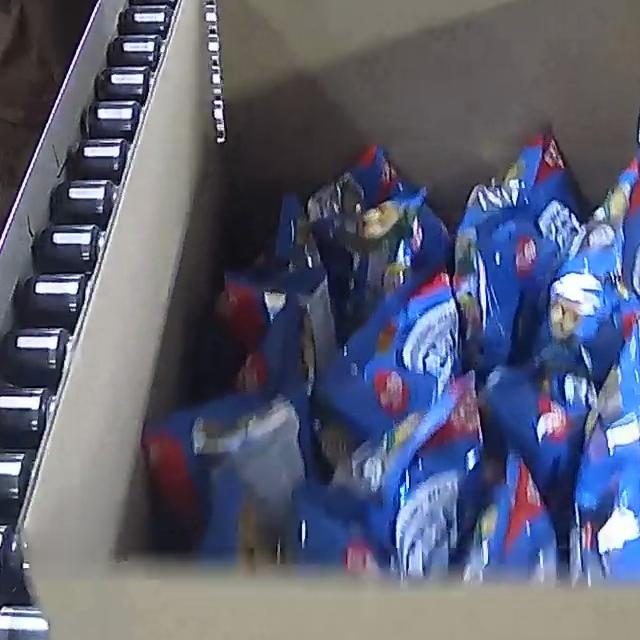paprika: (140, 122, 640, 588)
